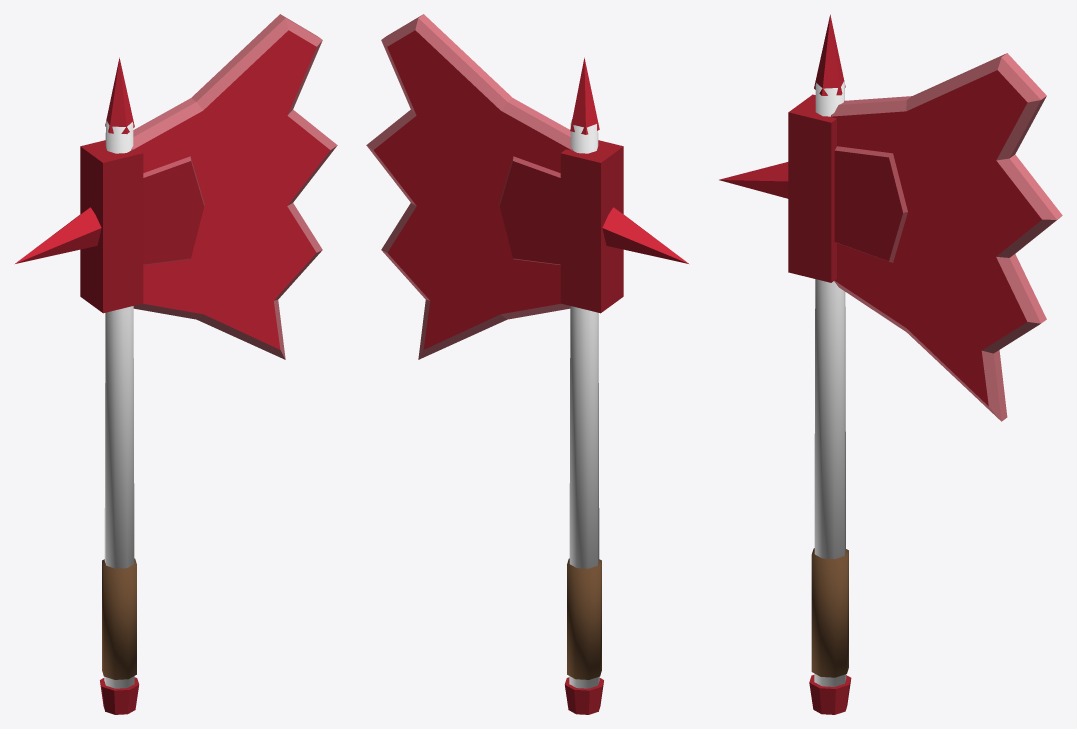
Rendered from adamantite_axe.glb.
3 views of the same model, side by side, from view 1: azimuth 30°, elevation 25°; view 2: azimuth 150°, elevation 25°; view 3: azimuth 330°, elevation 25° (orthographic). The views are drawn at different scales.
Parts seen in each view (by area): view 1: adamantite_axe_v0; view 2: adamantite_axe_v0; view 3: adamantite_axe_v0.
Boxes of the visible parts, bbox=[...] form: adamantite_axe_v0: bbox=[15, 14, 337, 714]; adamantite_axe_v0: bbox=[366, 14, 688, 714]; adamantite_axe_v0: bbox=[719, 14, 1062, 714].
Bounding box in the file's own units: 0.518 × 1.01 × 0.064.
